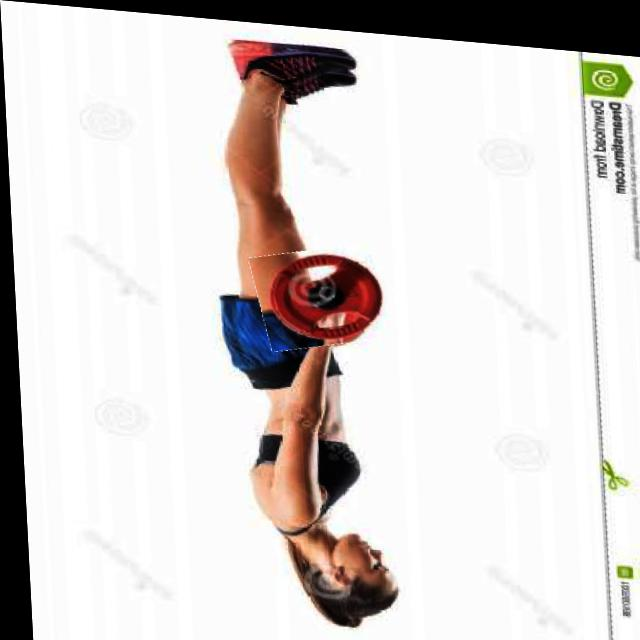barbell: (250, 234, 394, 350)
